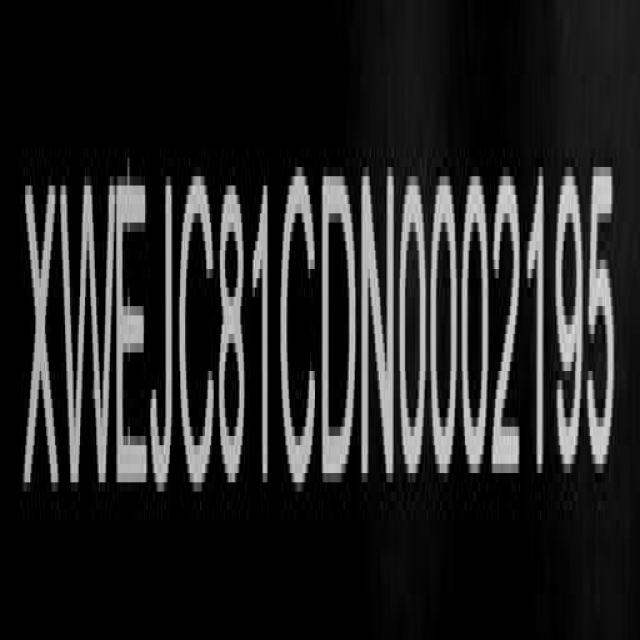0: (460, 165, 492, 474), (430, 168, 460, 478), (397, 172, 427, 470)
1: (526, 161, 548, 481), (251, 172, 271, 505)
2: (56, 172, 115, 512), (491, 165, 520, 471)
3: (115, 168, 148, 498)
5: (588, 151, 616, 478)
8: (217, 182, 246, 502)
9: (555, 162, 583, 478)
C: (278, 162, 319, 508), (177, 158, 215, 512)
D: (322, 176, 356, 492)
J: (149, 172, 175, 508)
N: (360, 154, 396, 488)
X: (23, 172, 58, 512)
